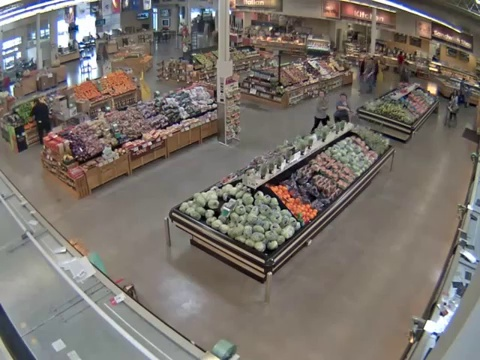face: (339, 94, 347, 101), (319, 90, 325, 98)
